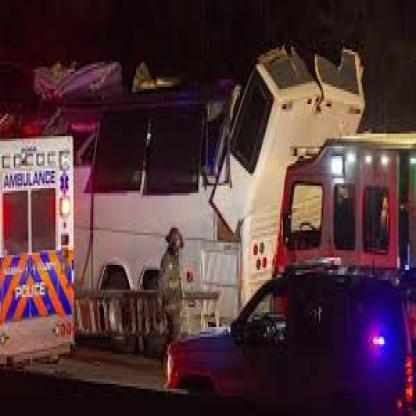accident: (73, 28, 416, 303)
